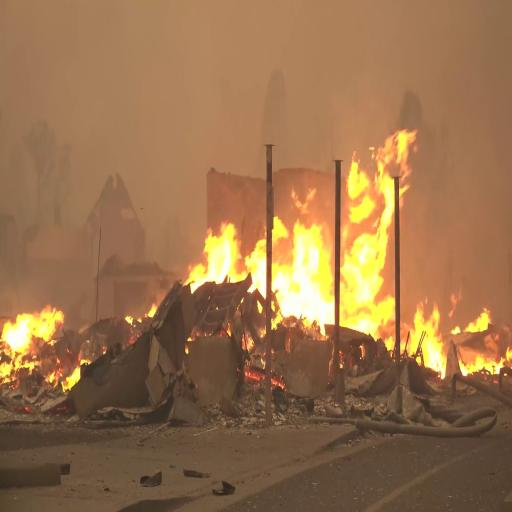fire: (322, 121, 422, 335), (244, 199, 342, 319), (0, 296, 62, 389), (185, 210, 255, 292), (405, 286, 455, 385)
